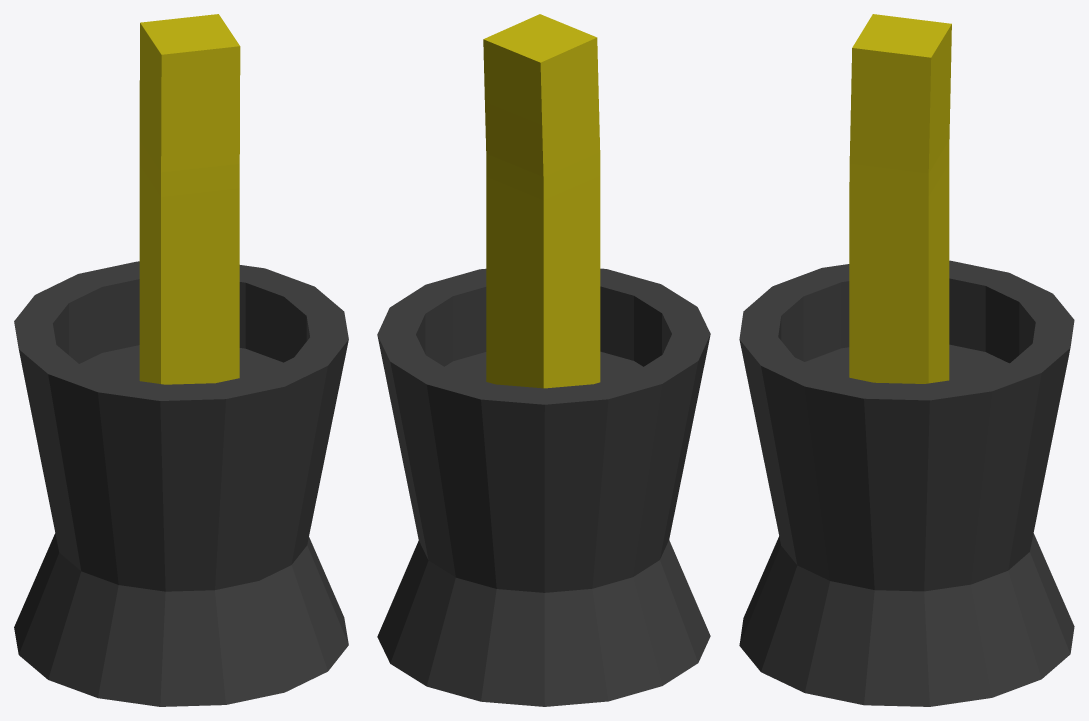
Rendered from cactus_grande_01_000003.obj.
3 views of the same model, side by side, from view 1: azimuth 30°, elevation 25°; view 2: azimuth 150°, elevation 25°; view 3: azimuth 270°, elevation 25° (orthographic).
Visible parts, largest first — view 1: Cylinder, NurbsPath.001; view 2: Cylinder, NurbsPath.001; view 3: Cylinder, NurbsPath.001.
Boxes of the visible parts, x1=… form: Cylinder: x1=14, y1=261, x2=348, y2=706; NurbsPath.001: x1=139, y1=14, x2=240, y2=384; Cylinder: x1=377, y1=268, x2=710, y2=706; NurbsPath.001: x1=483, y1=14, x2=600, y2=388; Cylinder: x1=739, y1=260, x2=1074, y2=706; NurbsPath.001: x1=849, y1=14, x2=951, y2=383.
Bounding box in the file's own units: 1.29 × 2.56 × 1.29.
